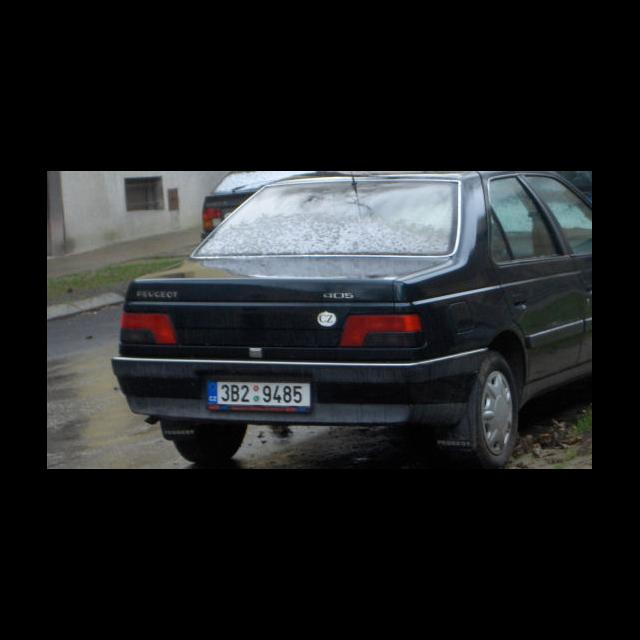Plate: (205, 377, 314, 411)
